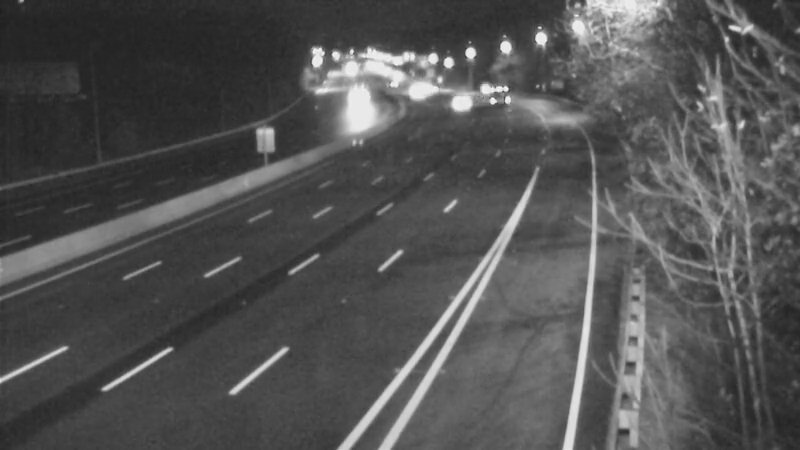vehicle: (405, 65, 455, 115), (390, 70, 440, 120), (463, 69, 513, 119), (432, 74, 482, 124), (330, 79, 380, 129)
